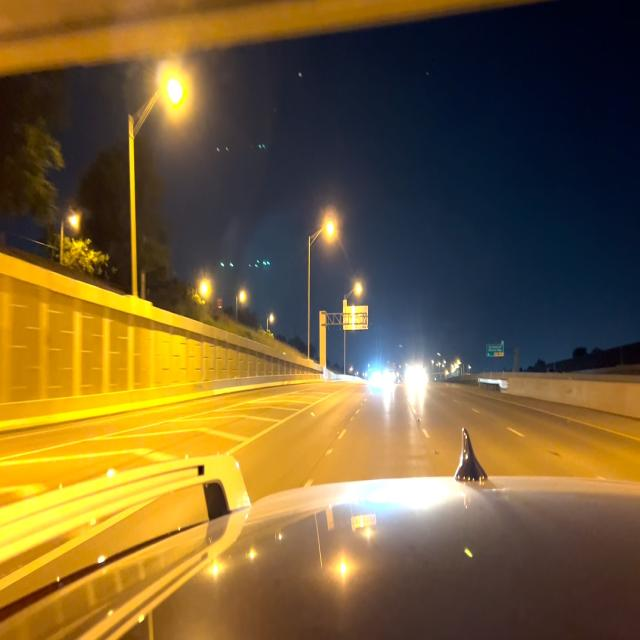back-of-sign: (343, 305, 368, 329)
